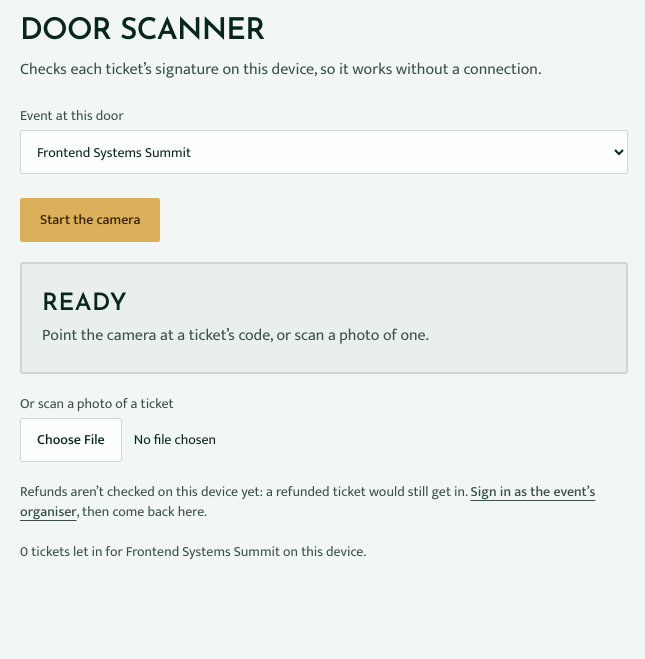
Test: the door scanner › explains a blocked camera, and offers the photo instead
Click the button "Start the camera" at (90, 220), box [20,198,160,242]
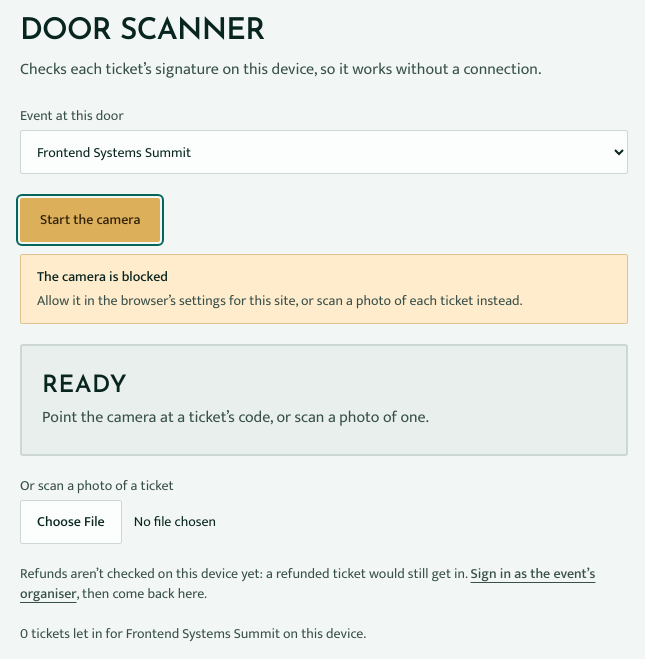
Expected: the file field labelled "Or scan a photo of a ticket" is shown, [20,500,294,544]
Result: the text "The camera is blocked" is shown at [37,265,168,288]
